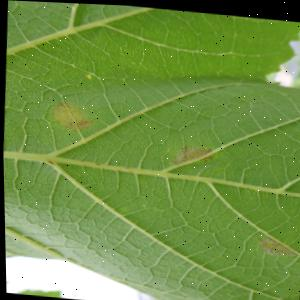Folha: (0, 0, 300, 300)
Fungo: (48, 99, 93, 131), (167, 141, 213, 166), (254, 232, 298, 255), (84, 72, 91, 78)
